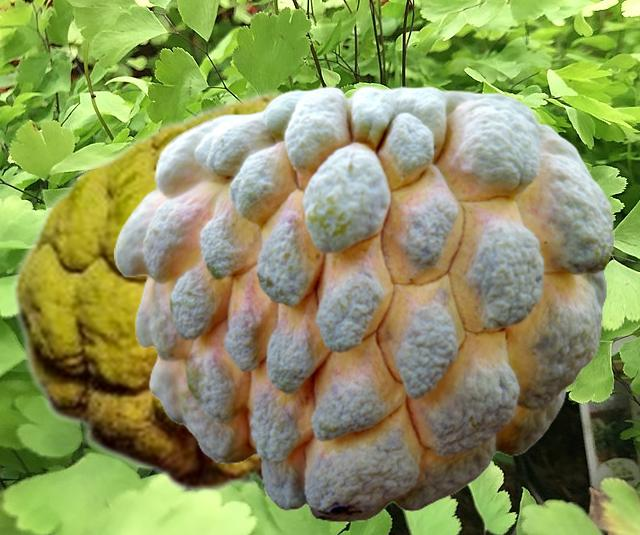atis: (114, 85, 613, 521), (9, 89, 349, 493)
